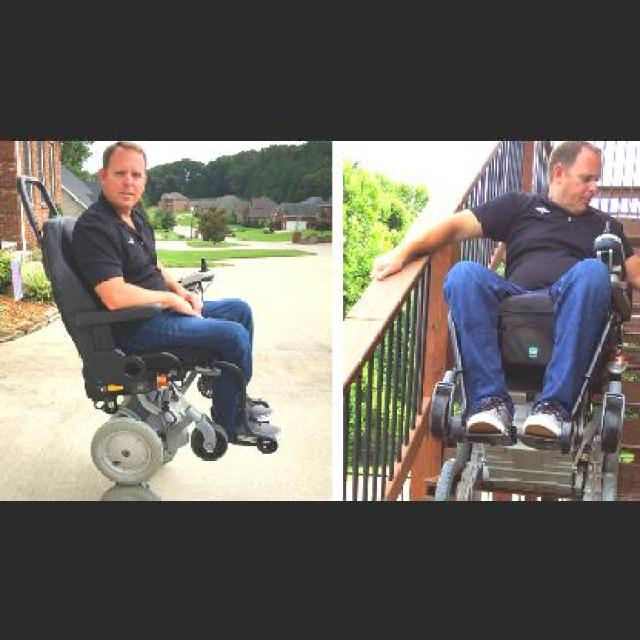wheelchairs: (423, 277, 640, 499), (45, 275, 279, 478)
